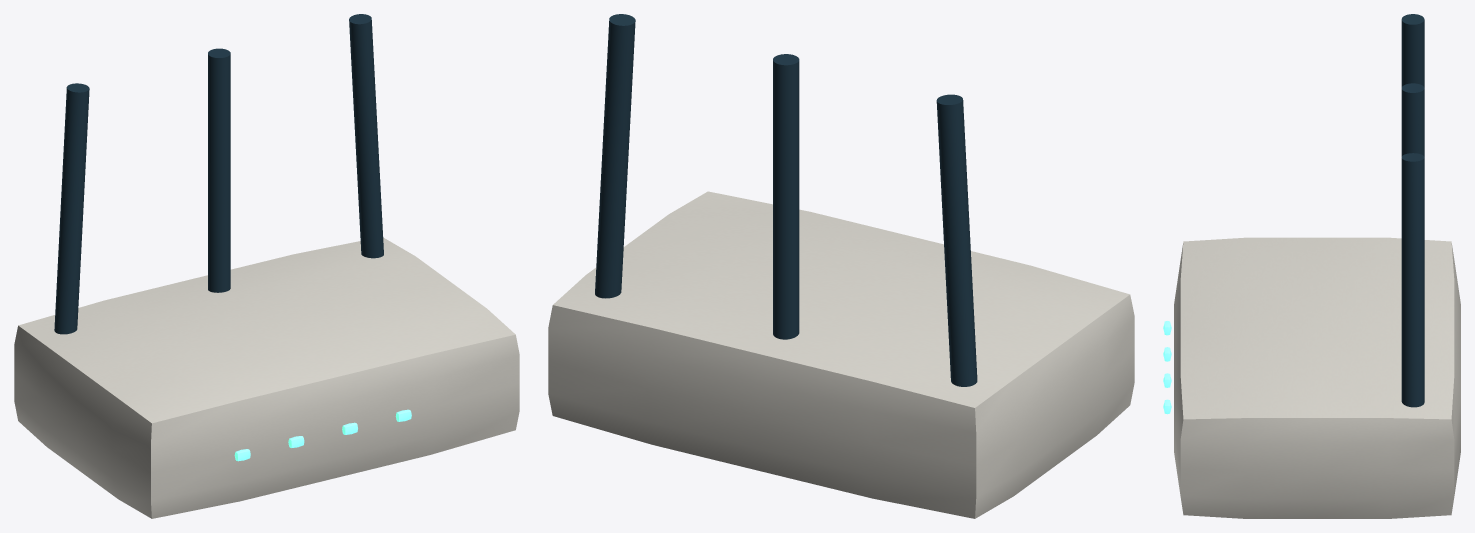
The model's file is router.glb.
3 views of the same model, side by side, from view 1: azimuth 30°, elevation 25°; view 2: azimuth 150°, elevation 25°; view 3: azimuth 270°, elevation 25° (orthographic). The views are drawn at different scales.
Parts seen in each view (by area): view 1: router; view 2: router; view 3: router.
Boxes of the visible parts, <box> form: router: <box>14,14,519,518</box>; router: <box>548,14,1134,518</box>; router: <box>1163,14,1460,518</box>.
Size of the model in its own units: 0.46 by 0.4004 by 0.3115.
Materials: 8 (8 with a texture image).
